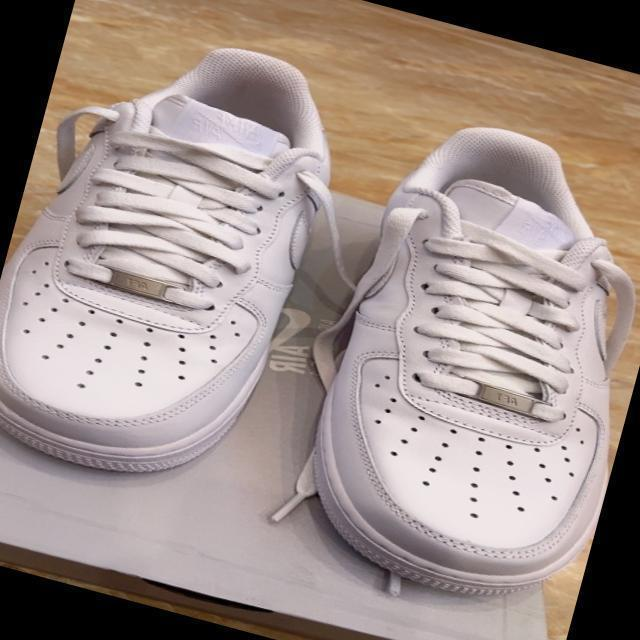nike original air force: (254, 93, 640, 625), (0, 1, 379, 513)
